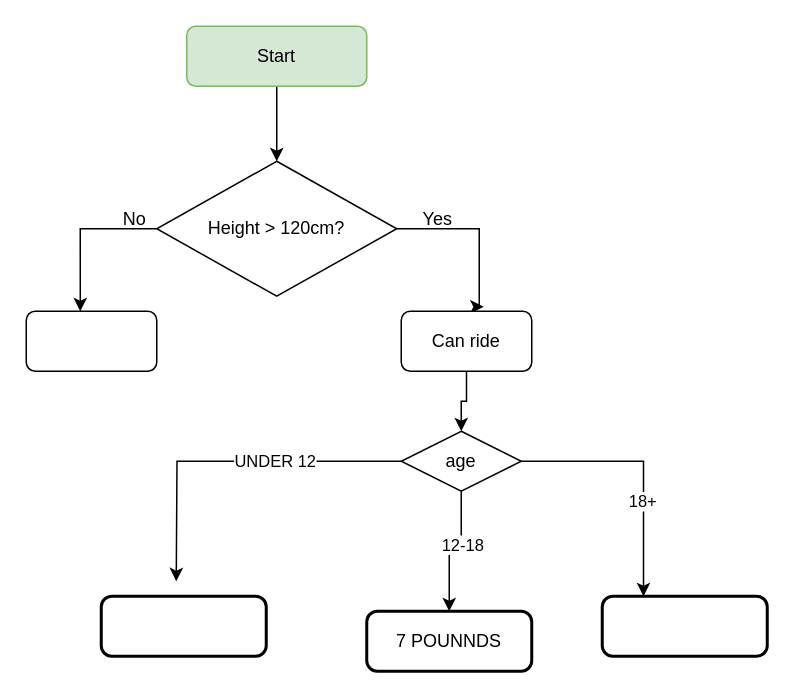
Image size: 795x699. Some labels were removed from this diagram. The shapes that lost their labels are listed below. From the top down, each one's centre as x and y in pixels, then its label:
the point at 91,340: Can't ride
the point at 183,625: 5 POUNDS
the point at 684,625: 12 POUNDS
